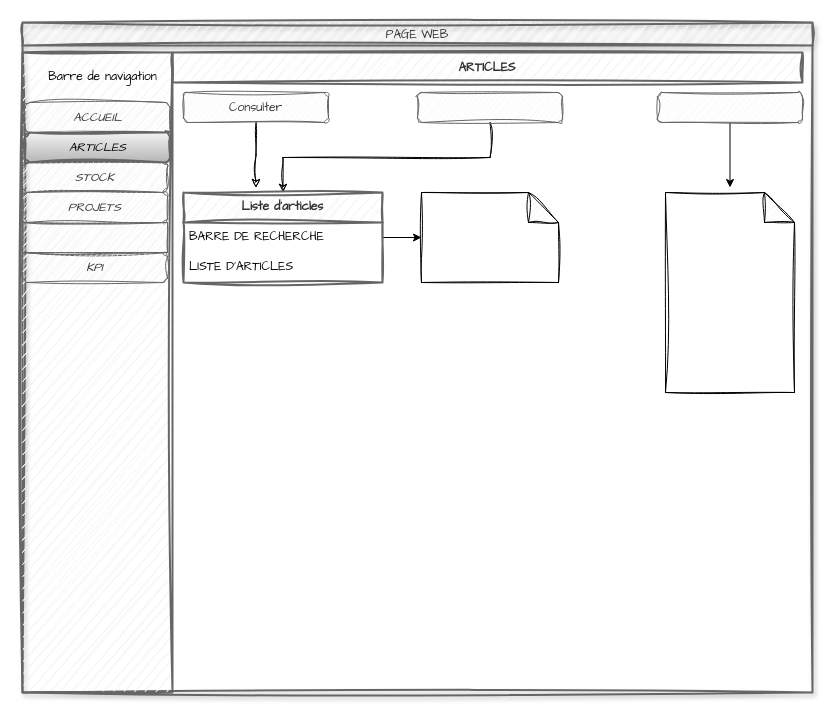
The diagram is 836 pixels wide and 717 high, and some of its shapes have lost their labels. The shapes that lost their labels are listed below. From the top down, each one's centre as x and y in pixels, then its label:
pixel 489 107: Modifier des articles
pixel 729 107: Ajouter
pixel 95 237: DMC
pixel 489 237: Formulaire de modification d'article
pixel 729 292: Formulaire d'ajout d'article : SIMPLE/ SUIVI
